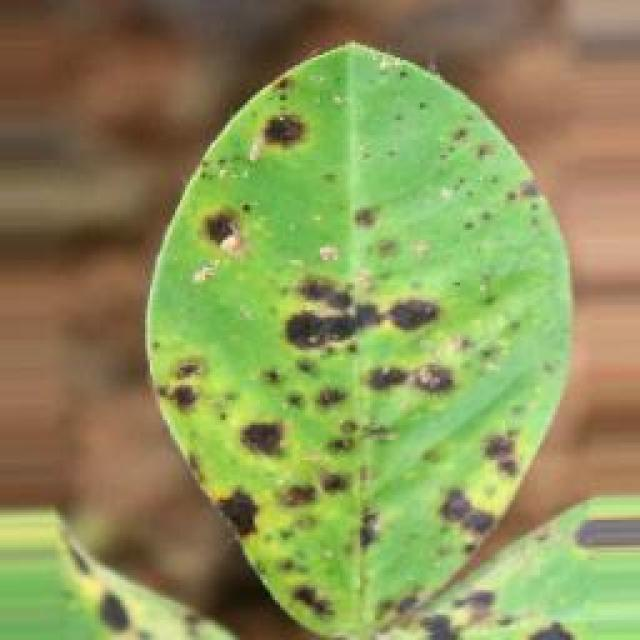Yellowish: (97, 14, 582, 612)
